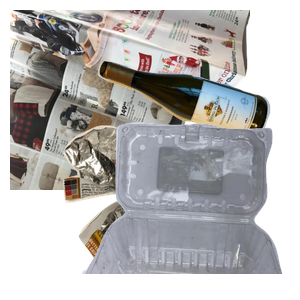glass: (95, 57, 300, 189)
paper: (10, 10, 250, 190)
plastic: (80, 120, 300, 300)
trash: (61, 123, 273, 300)
